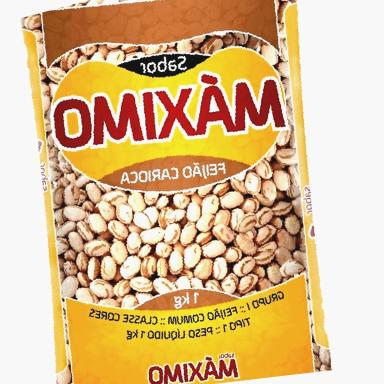beans package: (23, 0, 330, 383)
